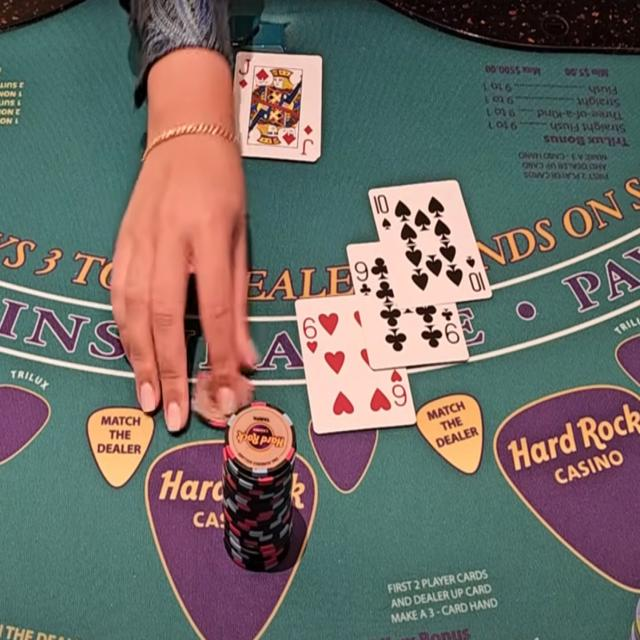10: (370, 191, 393, 216)
6: (301, 315, 319, 340)
9: (353, 256, 370, 284)
J: (237, 52, 252, 78)
